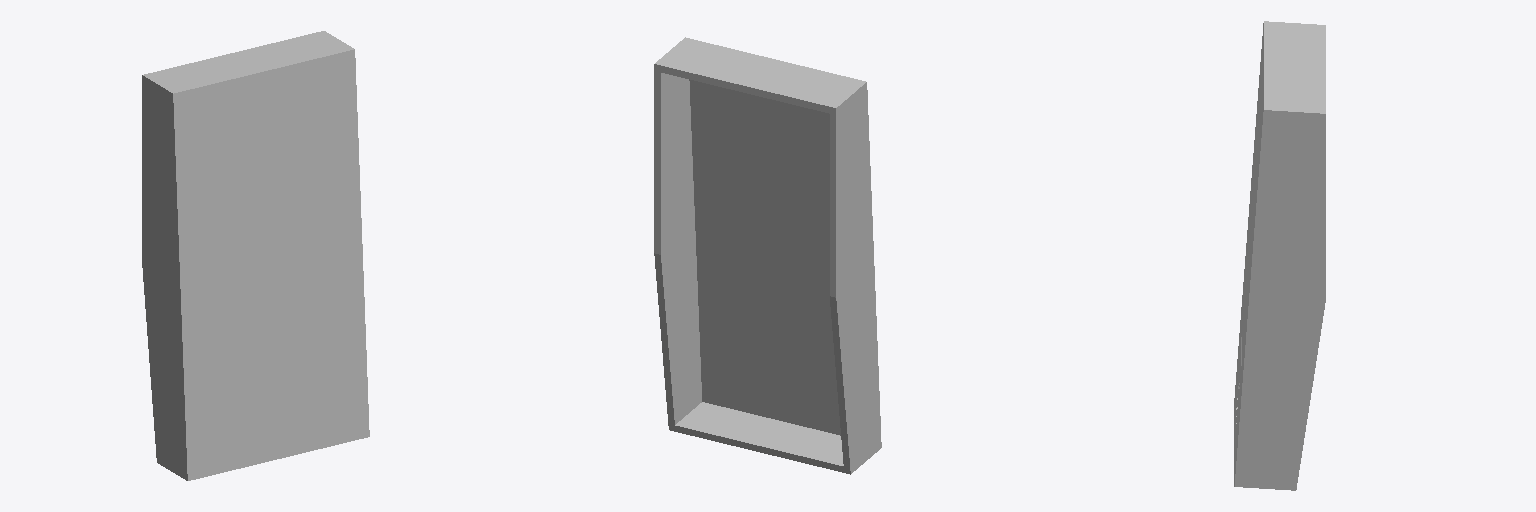
The model's file is original-23.obj.
3 views of the same model, side by side, from view 1: azimuth 30°, elevation 25°; view 2: azimuth 150°, elevation 25°; view 3: azimuth 270°, elevation 25° (orthographic).
Visible parts, largest first — view 1: #ID1276; view 2: #ID1276; view 3: #ID1276.
Boxes of the visible parts, x1=… form: #ID1276: x1=142, y1=31, x2=369, y2=480; #ID1276: x1=654, y1=37, x2=881, y2=474; #ID1276: x1=1234, y1=21, x2=1325, y2=490.
Size of the model in its own units: 0.3119 by 0.6237 by 0.1351.